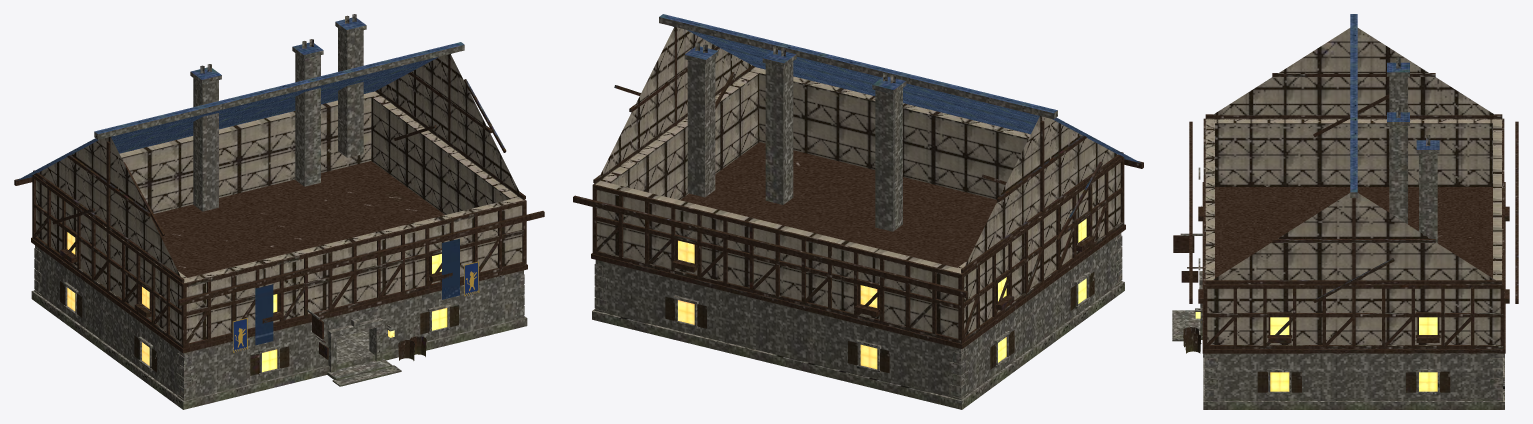
The model's file is bld_inn_card_lod1.glb.
The picture shows the model from 3 angles, left to right: view 1: azimuth 30°, elevation 25°; view 2: azimuth 150°, elevation 25°; view 3: azimuth 270°, elevation 25°; orthographic projection. The views are drawn at different scales.
Visible parts, largest first — view 1: inn_card; view 2: inn_card; view 3: inn_card.
Part boxes in pixels (x1,y1,x2,y2): inn_card: [14, 14, 544, 409]; inn_card: [573, 14, 1143, 409]; inn_card: [1172, 14, 1518, 409].
Size of the model in its own units: 38.76 by 21.77 by 28.27.
1 material, 1 textured.
